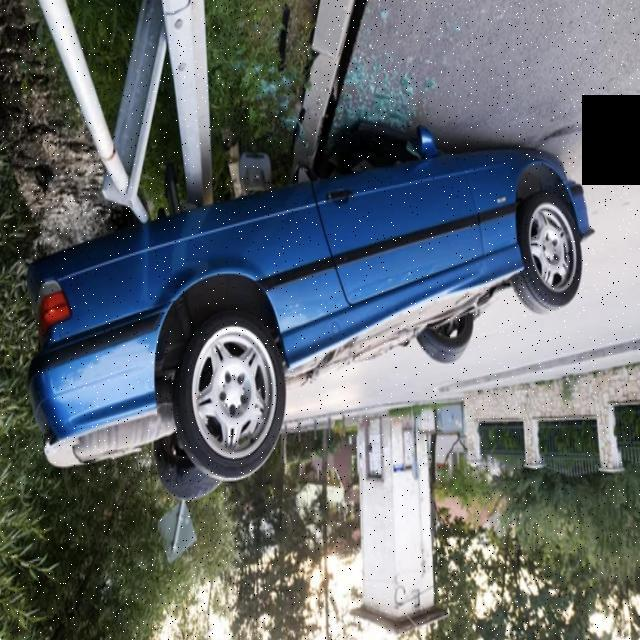severe: (27, 129, 594, 506)
